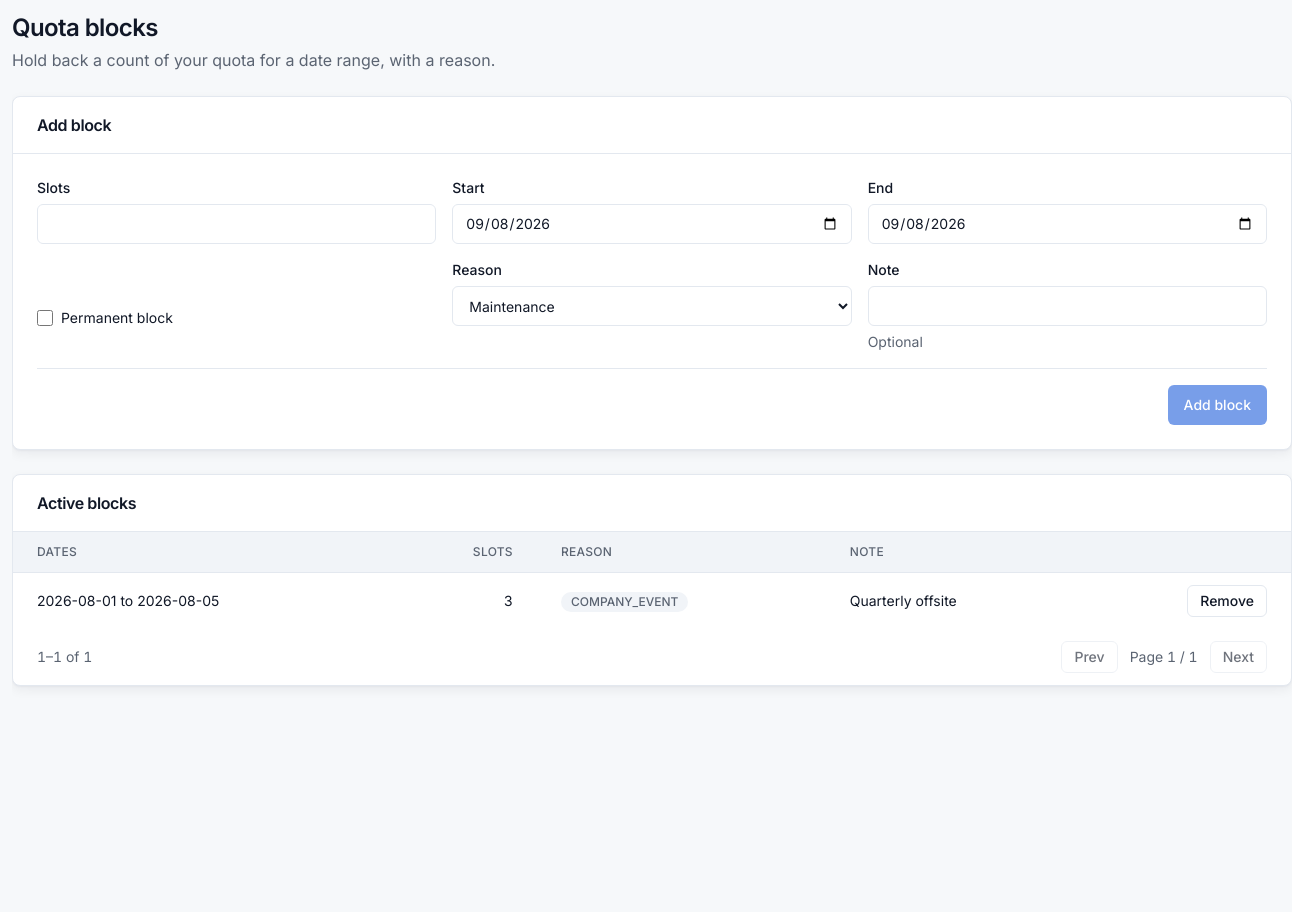
Test: Blocks › removes a block
expect the text "Quarterly offsite" is shown: met, box [826, 572, 1081, 629]
Click the button "Remove" at (1227, 601), box [1187, 585, 1267, 617]
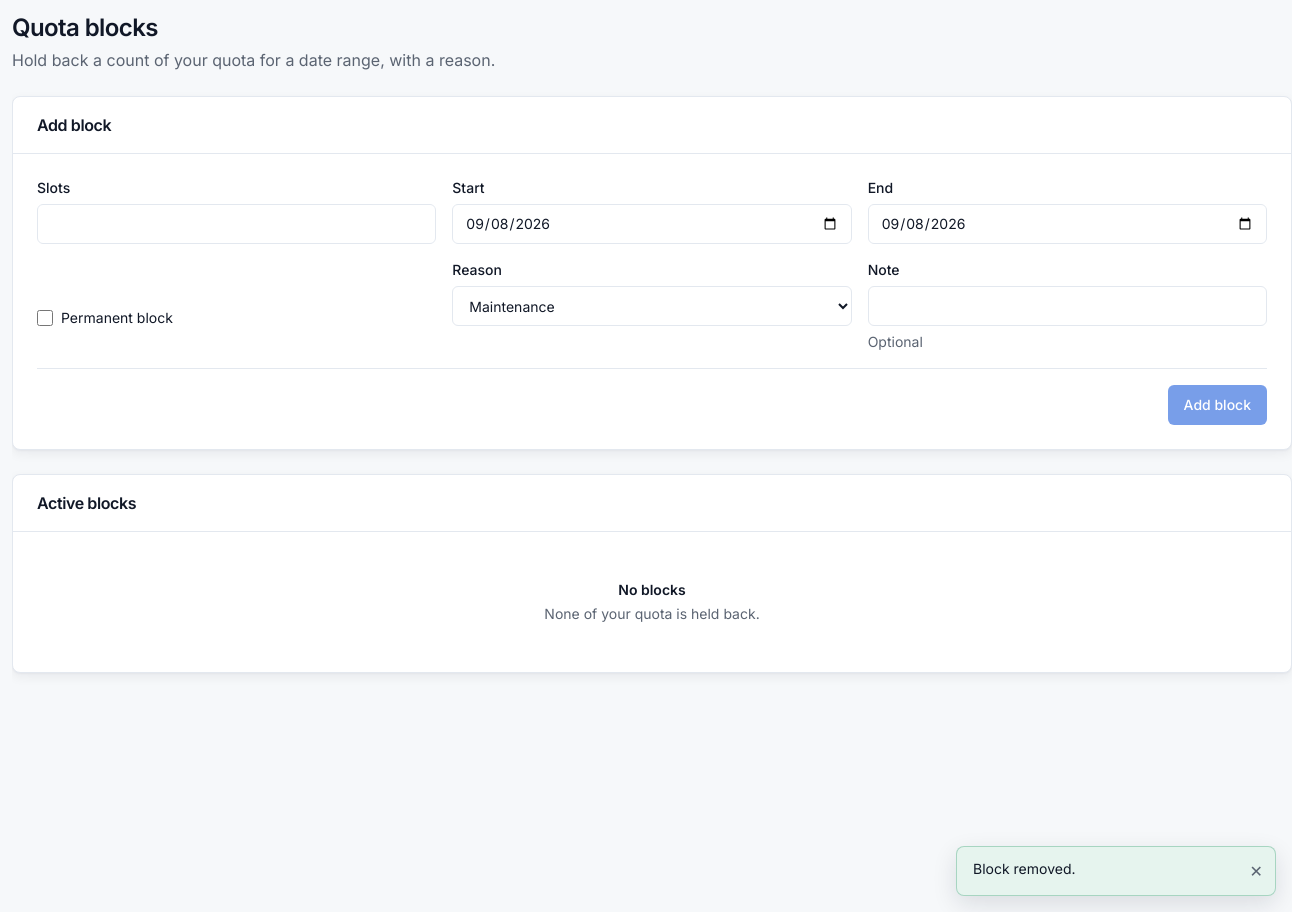
expect the text "Block removed." is shown: met, box [973, 860, 1076, 877]
